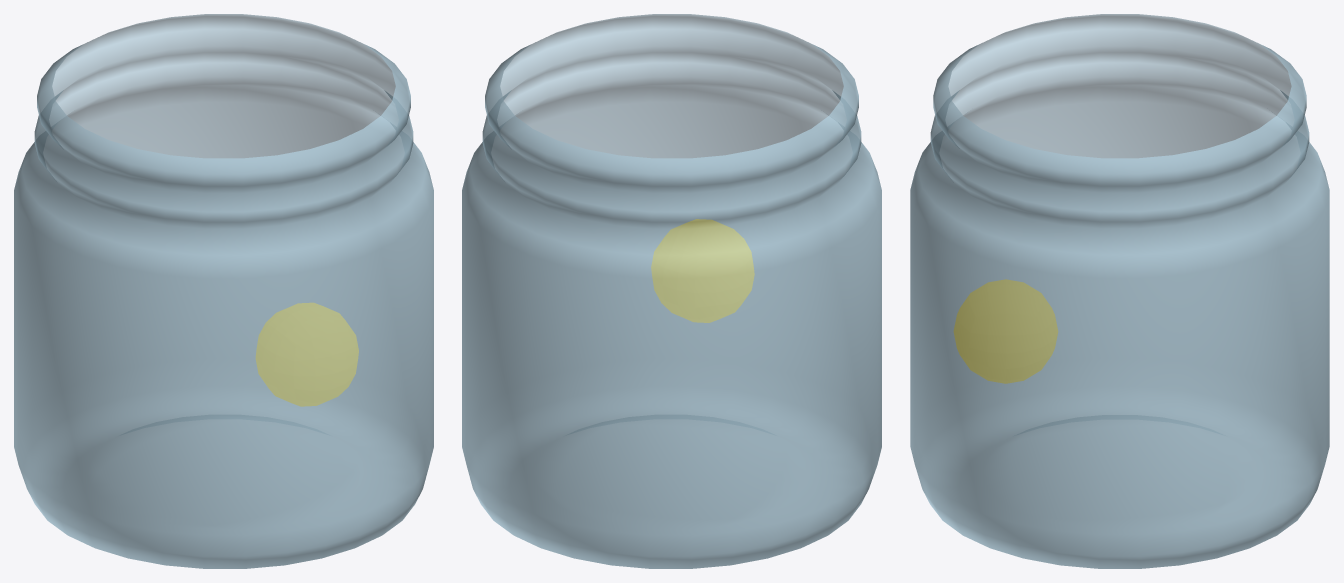
The model's file is firefly-jar.glb.
3 renders of one model, left to right at view 1: azimuth 30°, elevation 25°; view 2: azimuth 150°, elevation 25°; view 3: azimuth 270°, elevation 25°, orthographic.
Visible parts, largest first — view 1: Circle, Roundcube; view 2: Circle, Roundcube; view 3: Circle, Roundcube.
Boxes of the visible parts, x1,y1,x2,y2 form: Circle: (14,14,433,568); Roundcube: (256,303,358,406); Circle: (462,14,881,568); Roundcube: (651,219,754,322); Circle: (910,14,1329,568); Roundcube: (954,279,1057,383).
Bounding box in the file's own units: 2.09 × 2.22 × 2.1.
